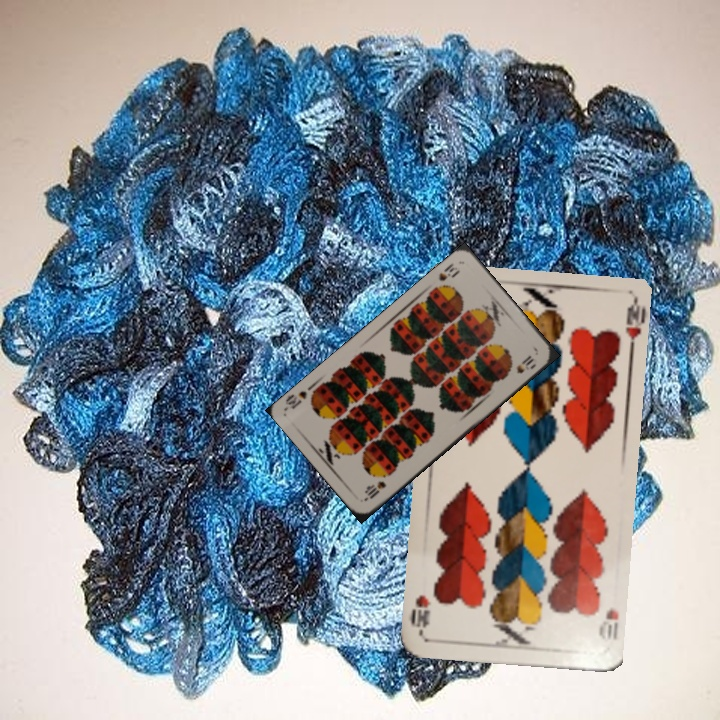H10: (595, 604, 621, 644)
S10: (361, 477, 389, 503), (435, 259, 463, 284)
